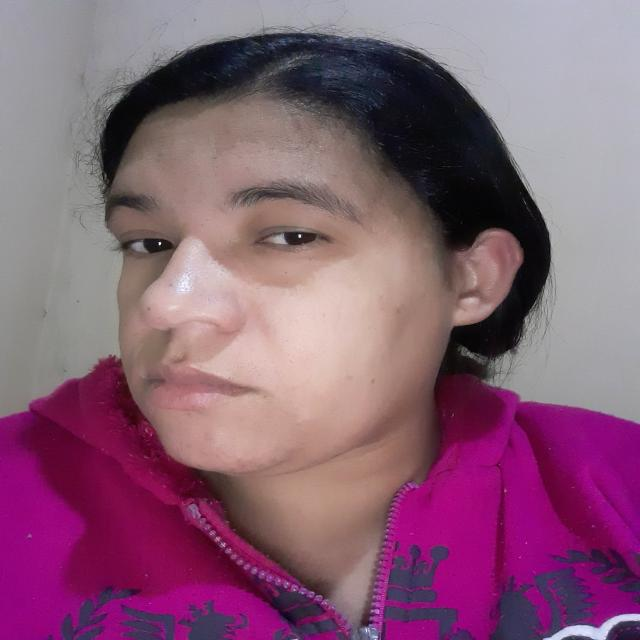Acne: (225, 452, 271, 468), (199, 431, 222, 444), (181, 412, 200, 422), (176, 442, 194, 451)
Englarged-Pores: (176, 264, 212, 300), (277, 333, 319, 363), (200, 160, 257, 180), (168, 153, 199, 177)
